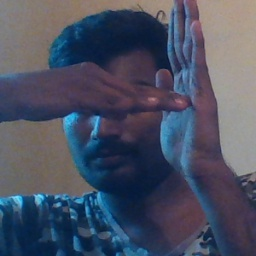Z: (100, 4, 233, 175)
